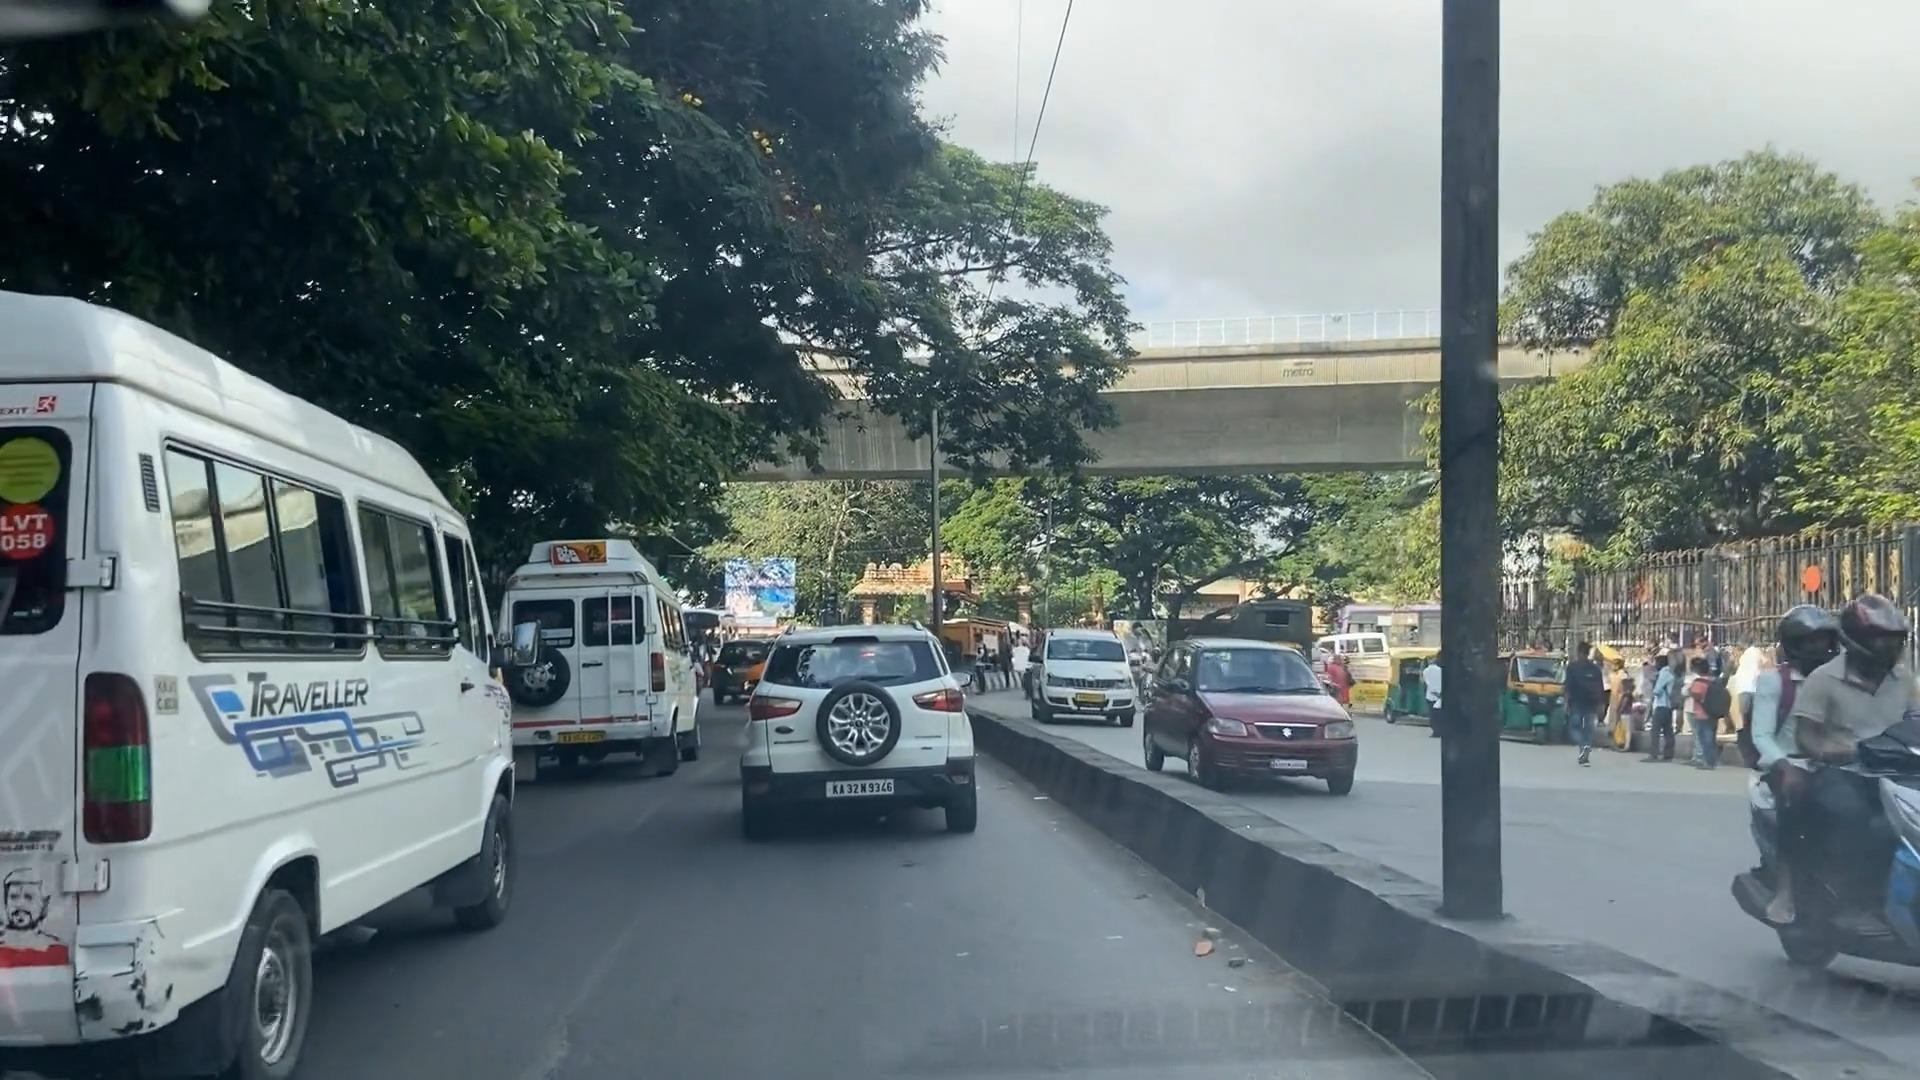HMV: (13, 306, 516, 1055), (498, 560, 699, 790)
LMV: (738, 638, 969, 798)
